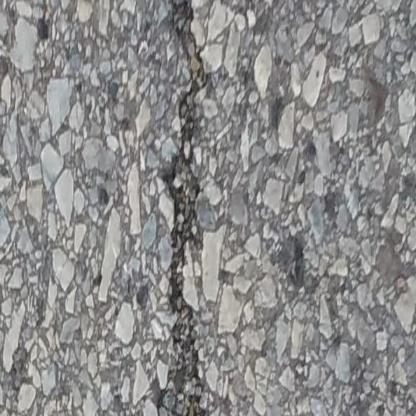Cracks: (156, 0, 206, 416)
